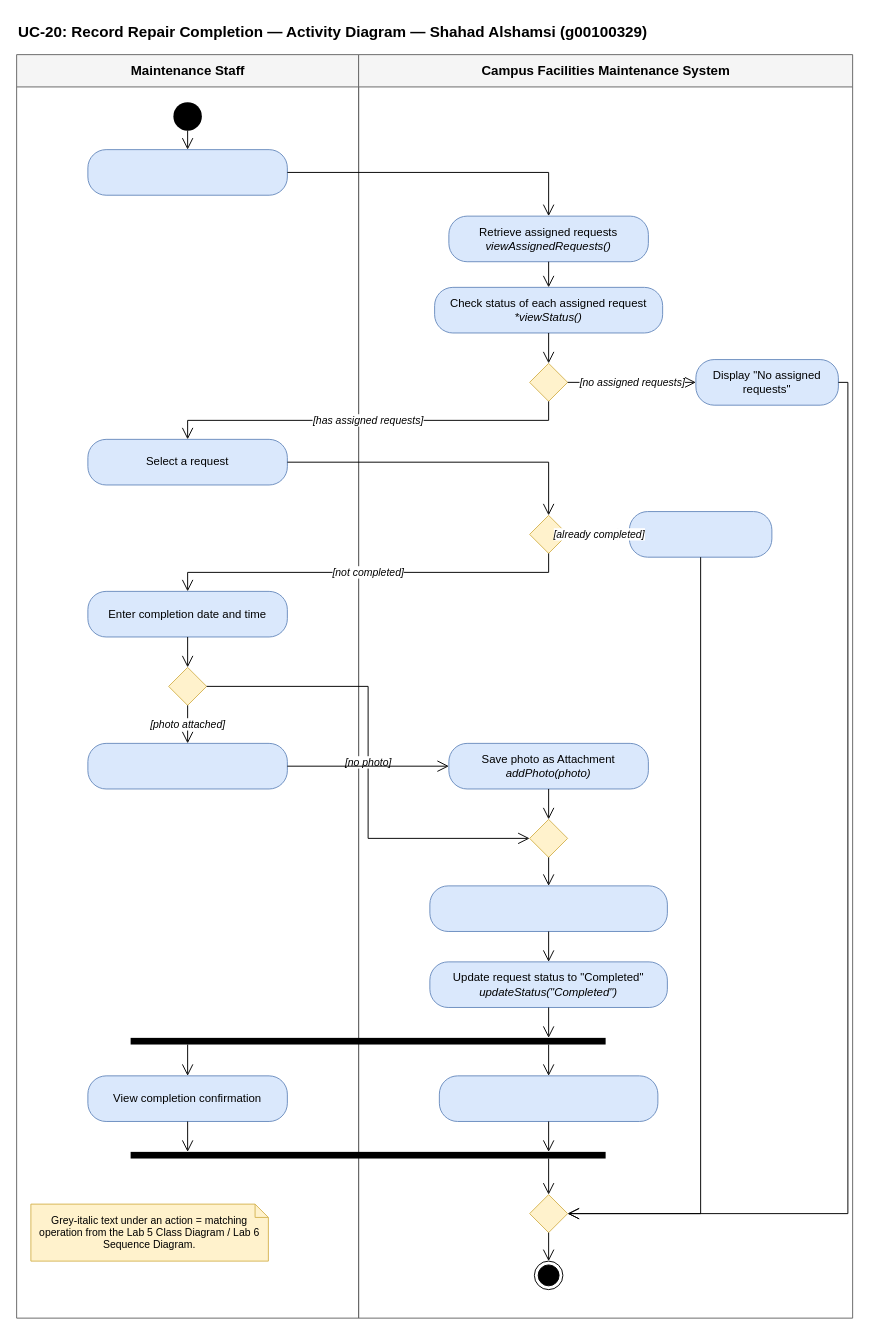
The diagram is 876 pixels wide and 1335 high, and some of its shapes have lost their labels. The shapes that lost their labels are listed below. From the top down, each one's centre as x and y in pixels, then its label:
[187,172]: Open assigned requests list
[700,534]: Display "Repair already recorded"
[187,765]: Attach completion photo
[548,908]: Save completion date in RepairRecord markCompleted(completedAt)
[548,1098]: Notify student of status change (UC-09)
